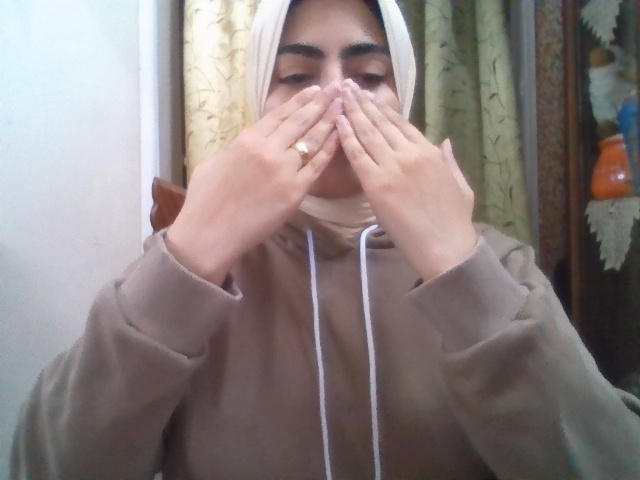thanks: (179, 79, 475, 249)
